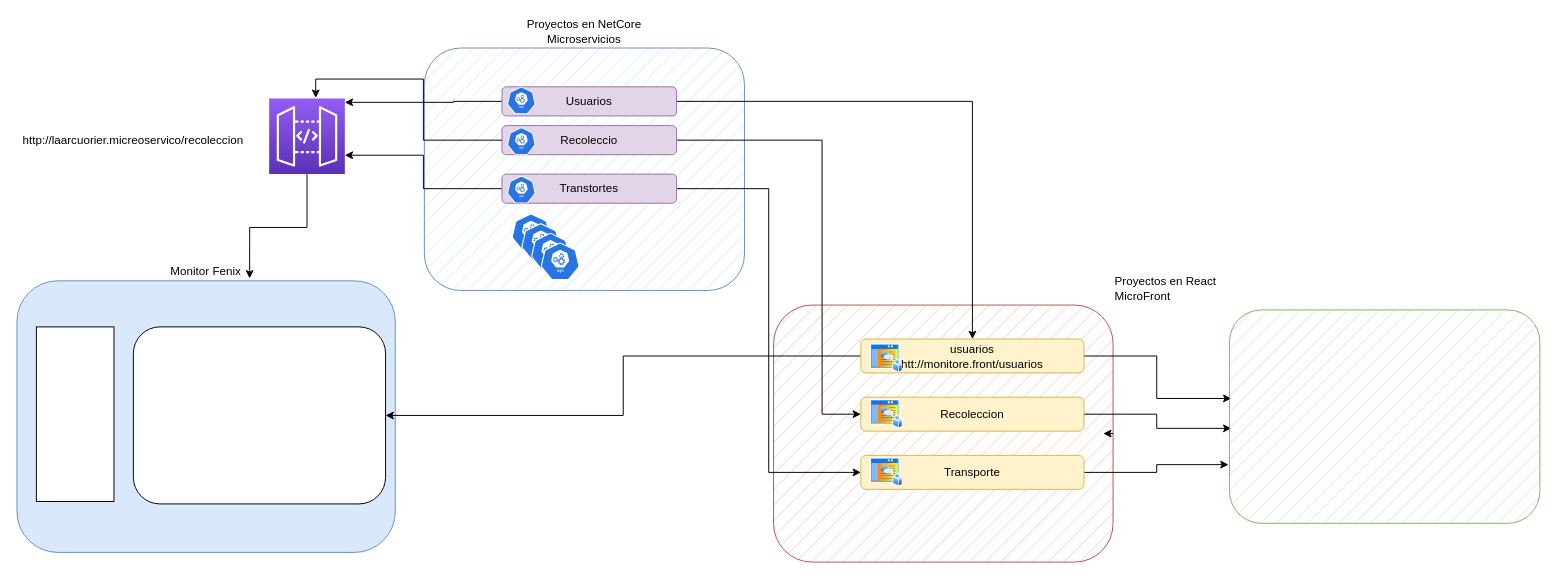
Image size: 1557x579. Some labels were removed from this diagram. The centre of each missing label's shape, as x and y in pixels:
Api gateway: (x=306, y=135)
Iframe urls=<url de pagina de react > url="htt://monitore.front/usuarios": (x=259, y=415)
Proyectos en React Layout: (x=1384, y=416)
